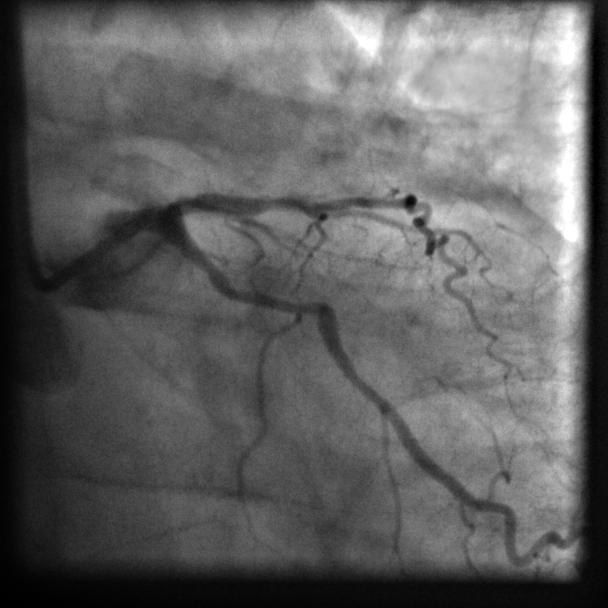Stenosis: (232, 281, 320, 324)
